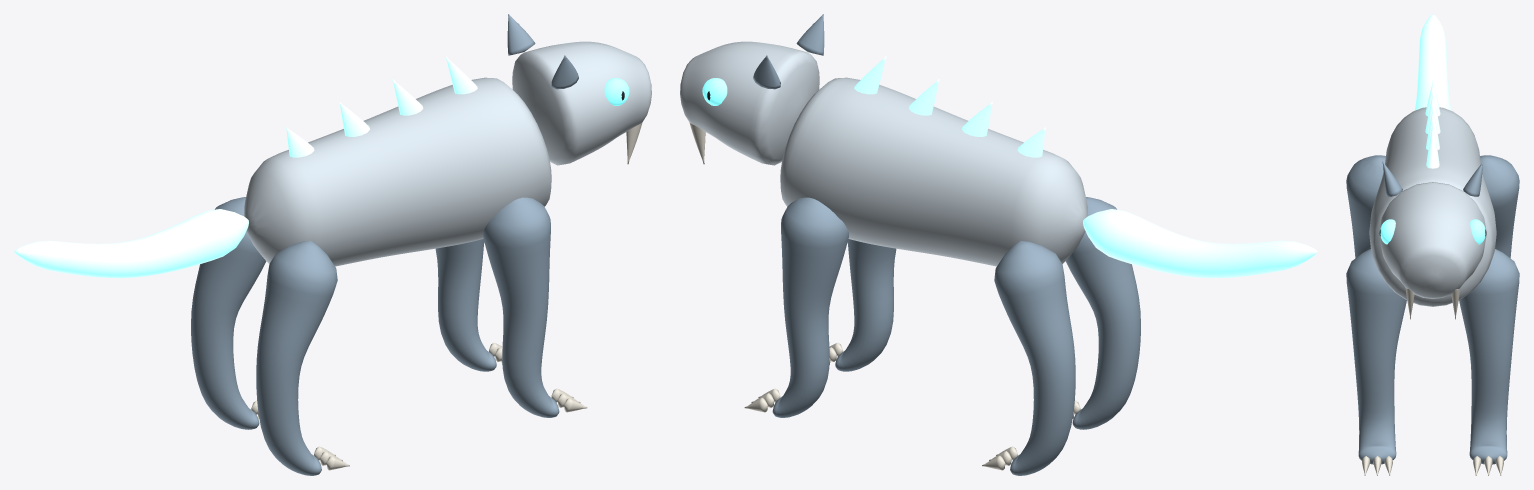
File: glacier_panther.glb
3 renders of one model, left to right at view 1: azimuth 30°, elevation 25°; view 2: azimuth 150°, elevation 25°; view 3: azimuth 270°, elevation 25°, orthographic. The views are drawn at different scales.
Parts seen in each view (by area): view 1: Panther_Torso, Leg3_Limb, Panther_Head, Leg1_Limb, Leg2_Limb, Panther_Tail, Leg0_Limb, CatEar_L; view 2: Panther_Torso, Leg2_Limb, Panther_Head, Leg0_Limb, Leg3_Limb, Panther_Tail, Leg1_Limb, CatEar_R; view 3: Panther_Head, Panther_Torso, Leg1_Limb, Leg0_Limb, Leg2_Limb, Leg3_Limb, Panther_Tail, CatEar_L, CatEar_R, FrostCrystal_0, Eye_L, Eye_R (+3 smaller).
Part boxes in pixels (<box>): Panther_Torso: <box>244,77,551,266</box>; Leg3_Limb: <box>256,241,337,475</box>; Panther_Head: <box>512,41,651,165</box>; Leg1_Limb: <box>483,197,559,417</box>; Leg2_Limb: <box>191,197,266,429</box>; Panther_Tail: <box>14,209,248,278</box>; Leg0_Limb: <box>435,239,496,371</box>; CatEar_L: <box>507,14,535,55</box>; Panther_Torso: <box>780,77,1087,266</box>; Leg2_Limb: <box>994,241,1075,475</box>; Panther_Head: <box>680,41,819,165</box>; Leg0_Limb: <box>772,197,848,417</box>; Leg3_Limb: <box>1065,197,1140,429</box>; Panther_Tail: <box>1083,209,1317,278</box>; Leg1_Limb: <box>835,239,896,371</box>; CatEar_R: <box>796,14,824,55</box>; Panther_Head: <box>1379,182,1486,298</box>; Panther_Torso: <box>1369,107,1496,306</box>; Leg1_Limb: <box>1346,249,1406,464</box>; Leg0_Limb: <box>1459,249,1519,464</box>; Leg2_Limb: <box>1480,155,1519,258</box>; Leg3_Limb: <box>1346,155,1385,258</box>; Panther_Tail: <box>1414,14,1451,110</box>; CatEar_L: <box>1463,161,1483,196</box>; CatEar_R: <box>1382,161,1402,196</box>; FrostCrystal_0: <box>1426,121,1439,168</box>; Eye_L: <box>1470,219,1485,244</box>; Eye_R: <box>1380,219,1395,244</box>.
Bounding box in the file's own units: 2.44 × 1.3 × 0.6553.
